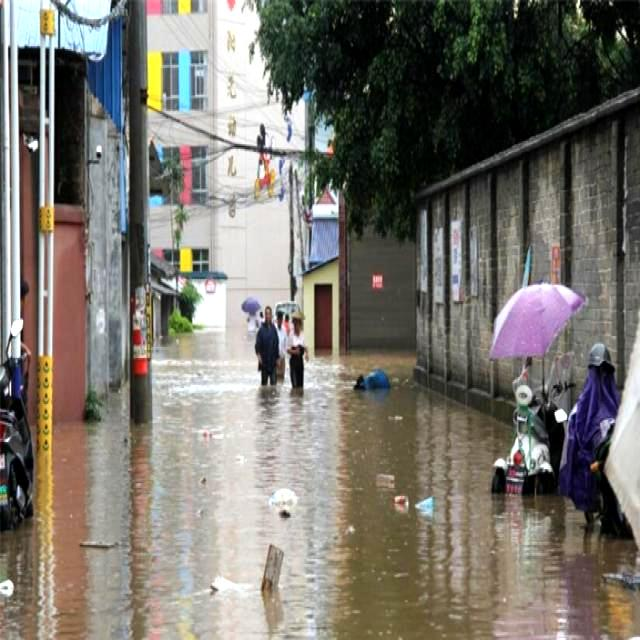civilian: (246, 297, 284, 393), (281, 306, 319, 389)
